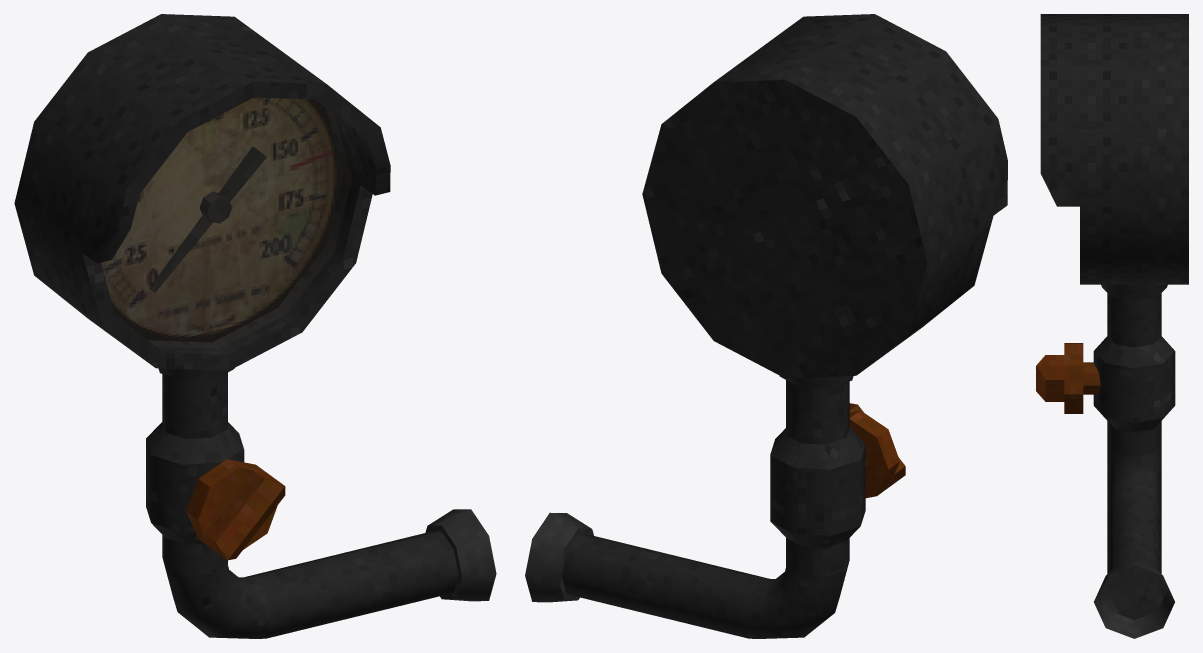
Rendered from gauge_etx_3.glb.
3 renders of one model, left to right at view 1: azimuth 30°, elevation 25°; view 2: azimuth 150°, elevation 25°; view 3: azimuth 270°, elevation 25°, orthographic. The views are drawn at different scales.
Parts seen in each view (by area): view 1: gauge_etx_3, gauge_etx_3_tiny_valve_child, gauge_pointer_etx_3_child; view 2: gauge_etx_3, gauge_etx_3_tiny_valve_child; view 3: gauge_etx_3, gauge_etx_3_tiny_valve_child.
Part boxes in pixels (x1=…): gauge_etx_3: x1=14, y1=14, x2=496, y2=638; gauge_etx_3_tiny_valve_child: x1=186, y1=459, x2=285, y2=560; gauge_pointer_etx_3_child: x1=149, y1=146, x2=266, y2=292; gauge_etx_3: x1=525, y1=14, x2=1007, y2=638; gauge_etx_3_tiny_valve_child: x1=849, y1=403, x2=905, y2=498; gauge_etx_3: x1=1040, y1=14, x2=1188, y2=638; gauge_etx_3_tiny_valve_child: x1=1036, y1=343, x2=1100, y2=413.
Size of the model in its own units: 0.288 by 0.41 by 0.1124.
3 materials, 3 textured.
